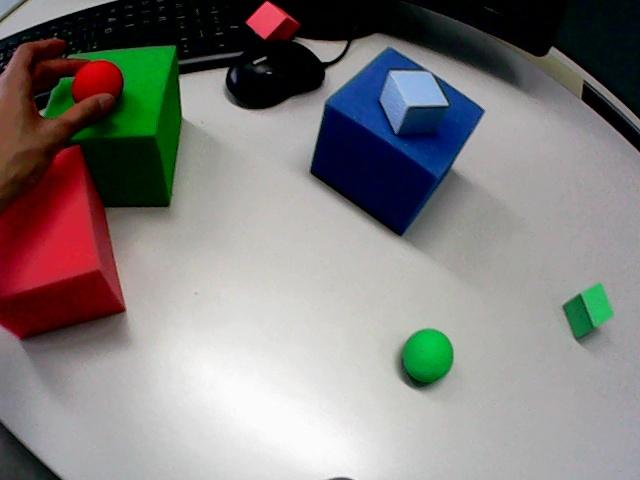blue_block: (311, 49, 483, 234), (380, 70, 448, 134)
red_block: (0, 146, 124, 337), (246, 1, 299, 40)
